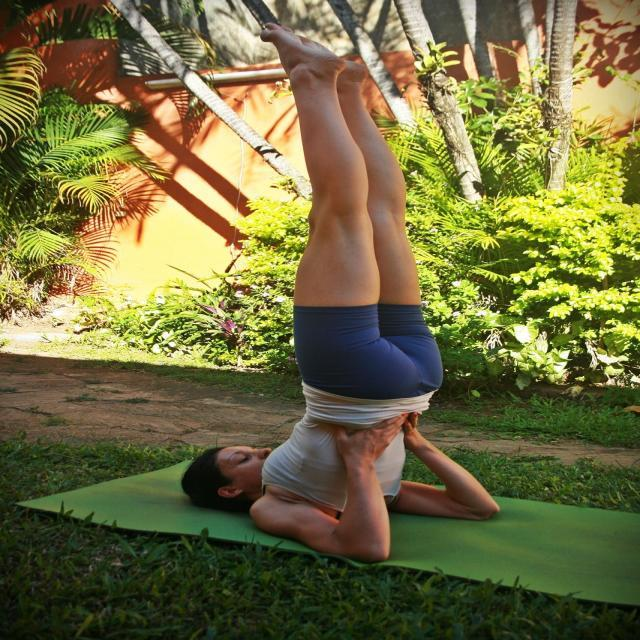yoga-pose shoulderstand: (154, 24, 505, 564)
